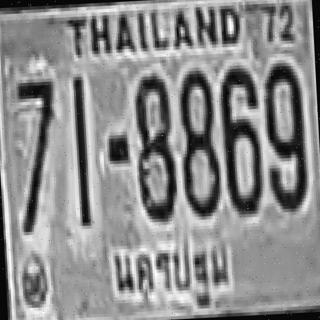N01: (72, 75, 90, 225)
N06: (217, 63, 262, 214)
N07: (14, 77, 58, 230)
N08: (132, 69, 177, 220), (176, 67, 219, 214)
N09: (262, 59, 306, 210)
P28: (106, 227, 237, 310)
